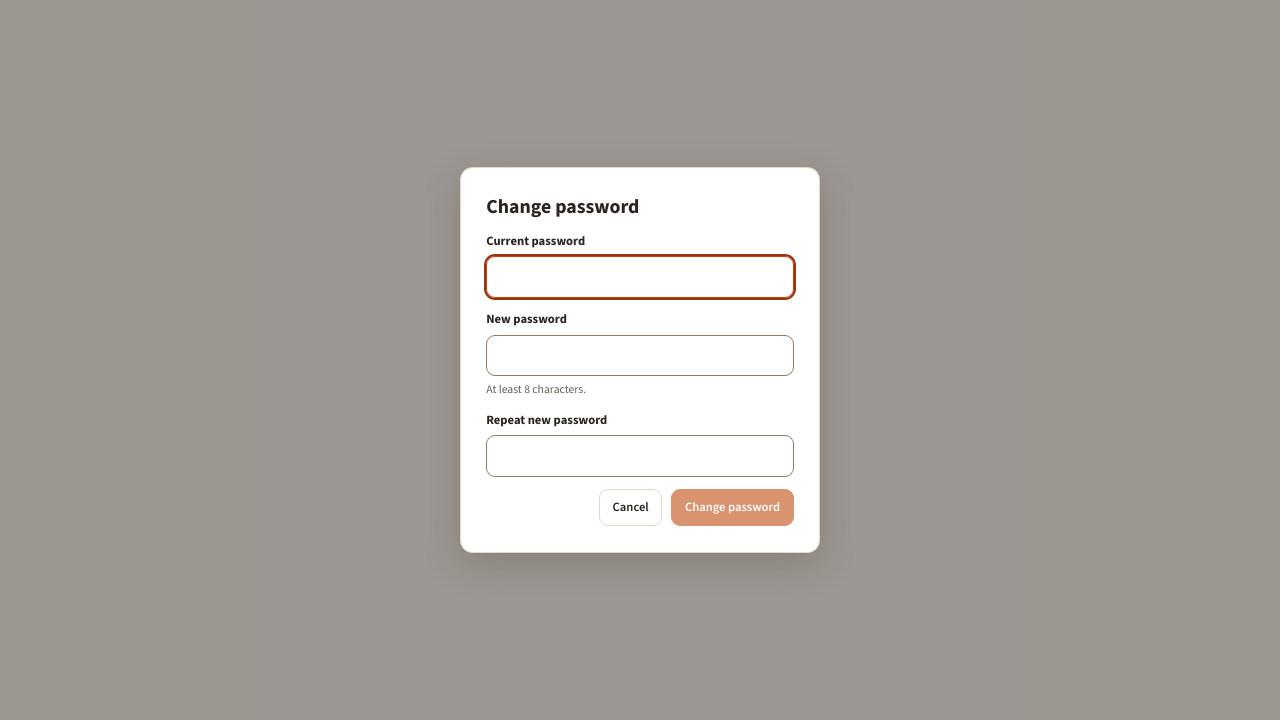
Test: ChangePasswordDialog › needs matching passwords of 8+ characters
This screenshot has width=1280, height=720.
Type "old-password" into the password field labelled "Current password".
click(640, 277); type("old-password")  # box [486,256,794,298]
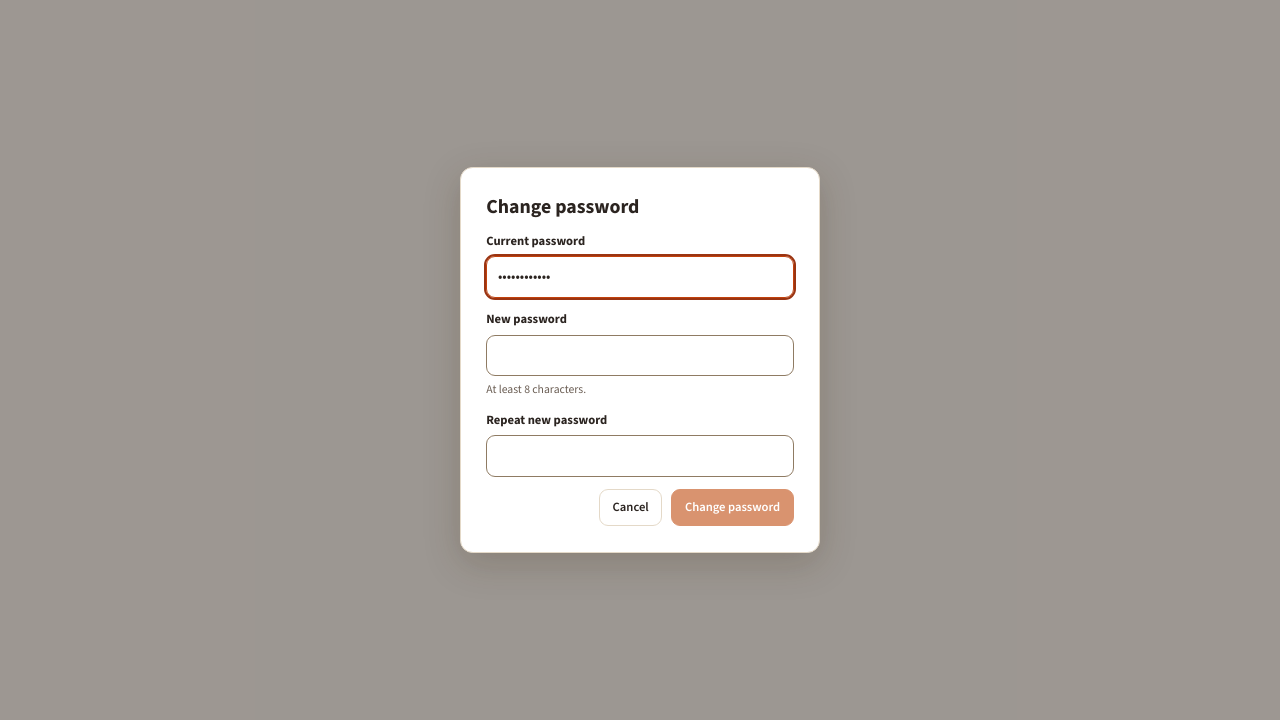
Type "short" into the password field labelled "New password".
click(640, 356); type("short")  # box [486,335,794,376]
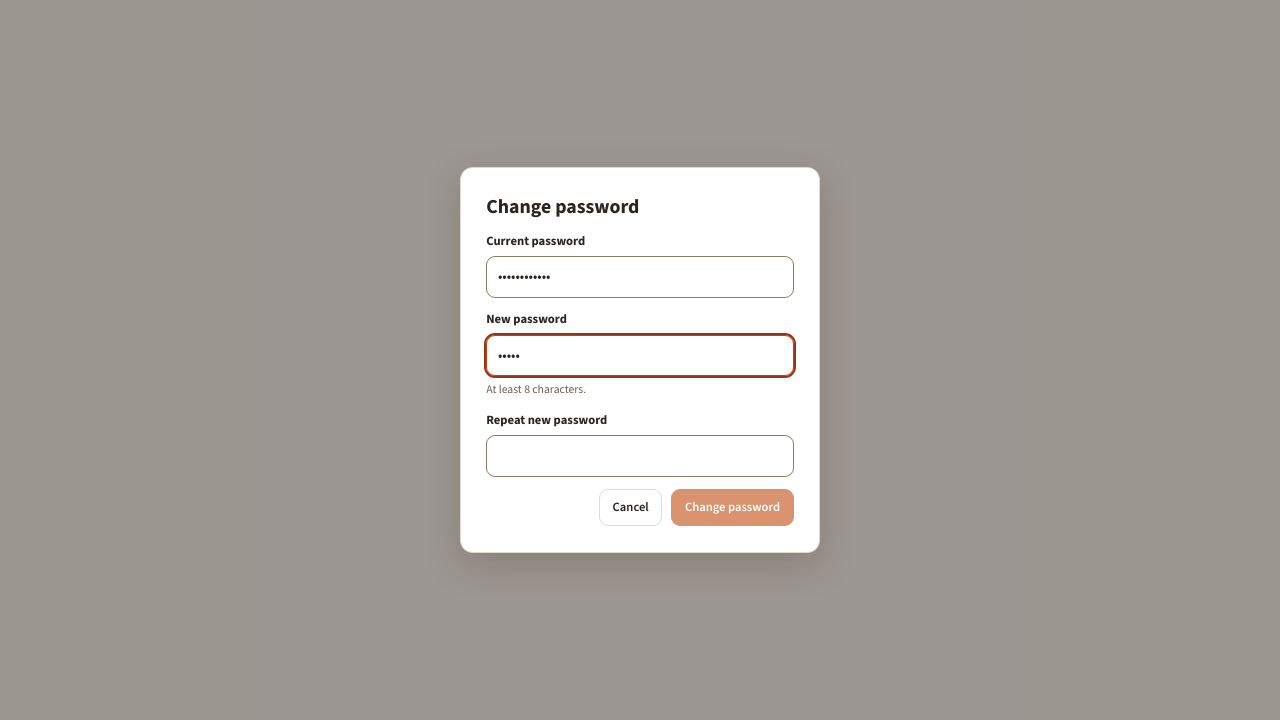
Type "short" into the password field labelled "Repeat new password".
click(640, 456); type("short")  # box [486,435,794,477]
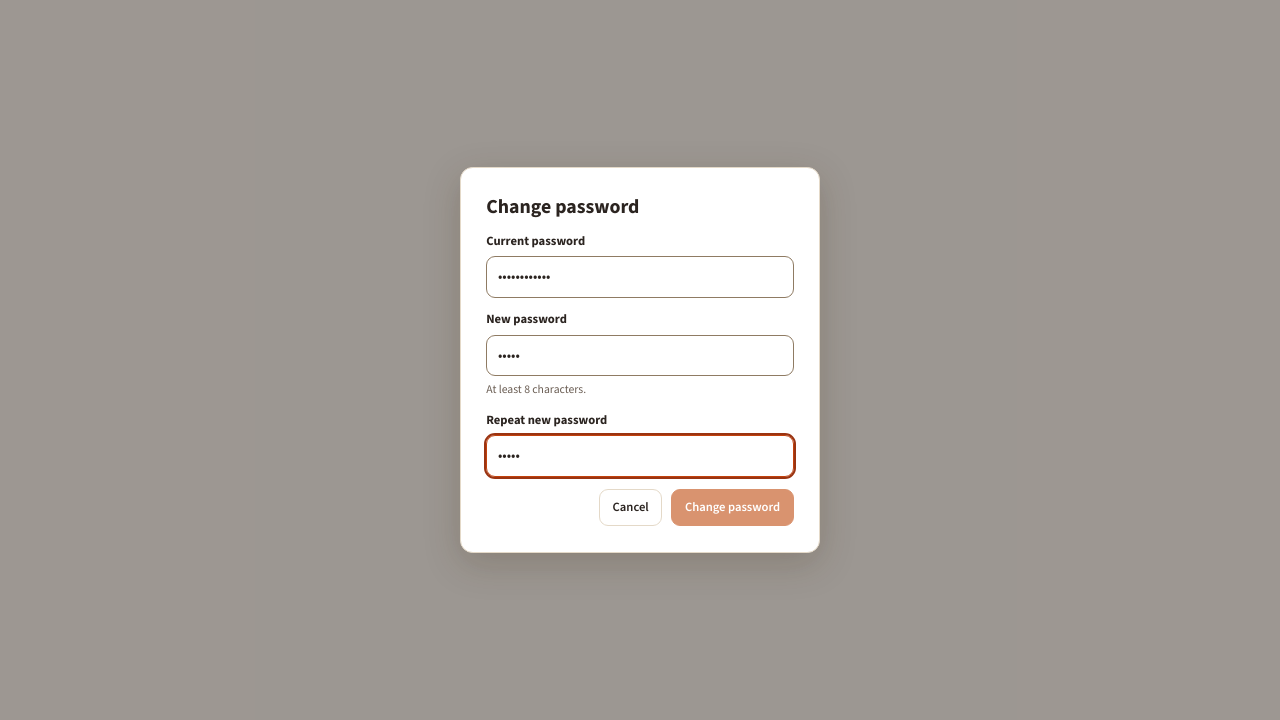
Expected: the button "Change password" is disabled, [671,489,794,526]
Type "-but-longer" into the password field labelled "New password".
click(640, 356); type("-but-longer")  # box [486,335,794,376]
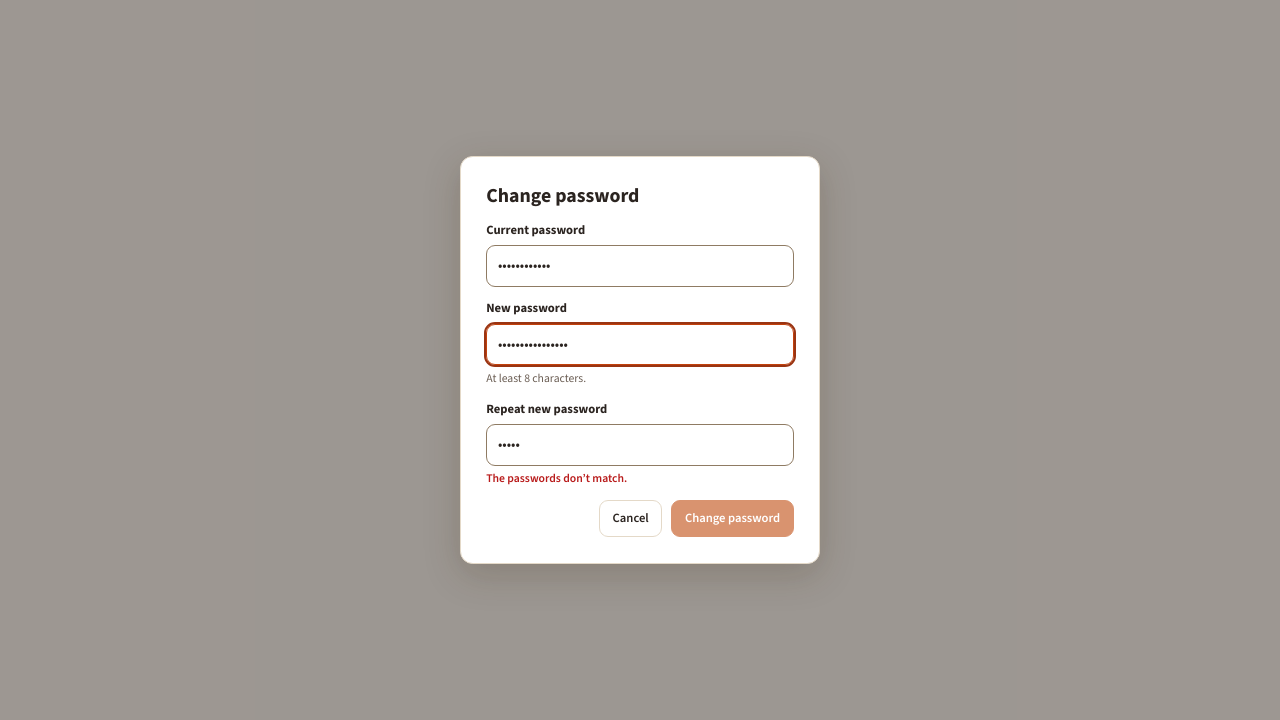
Now the text "The passwords don’t match." is shown, box [486,470,627,486]
